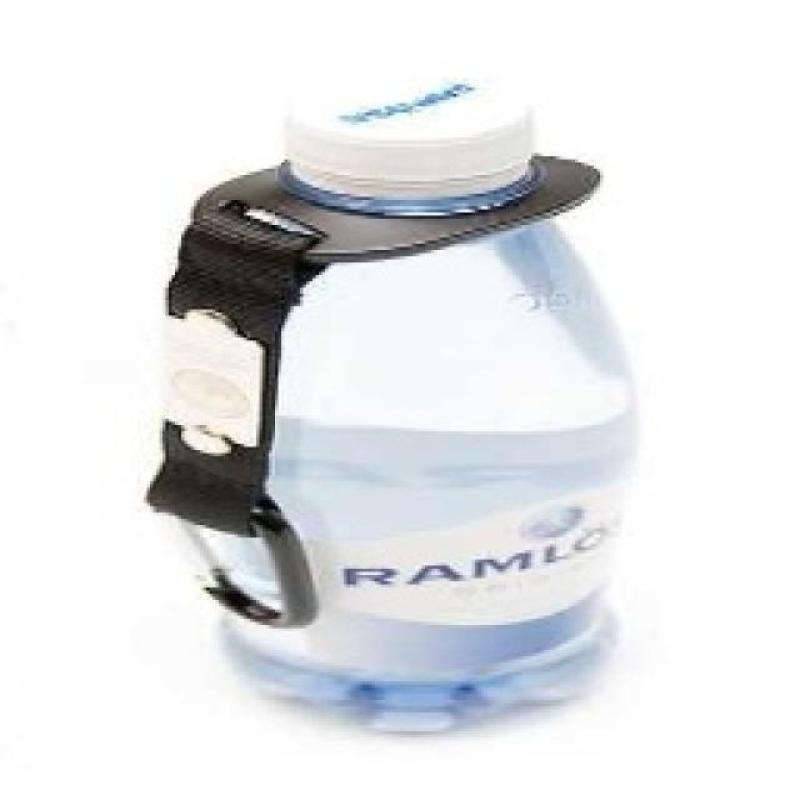botella: (223, 83, 633, 732)
